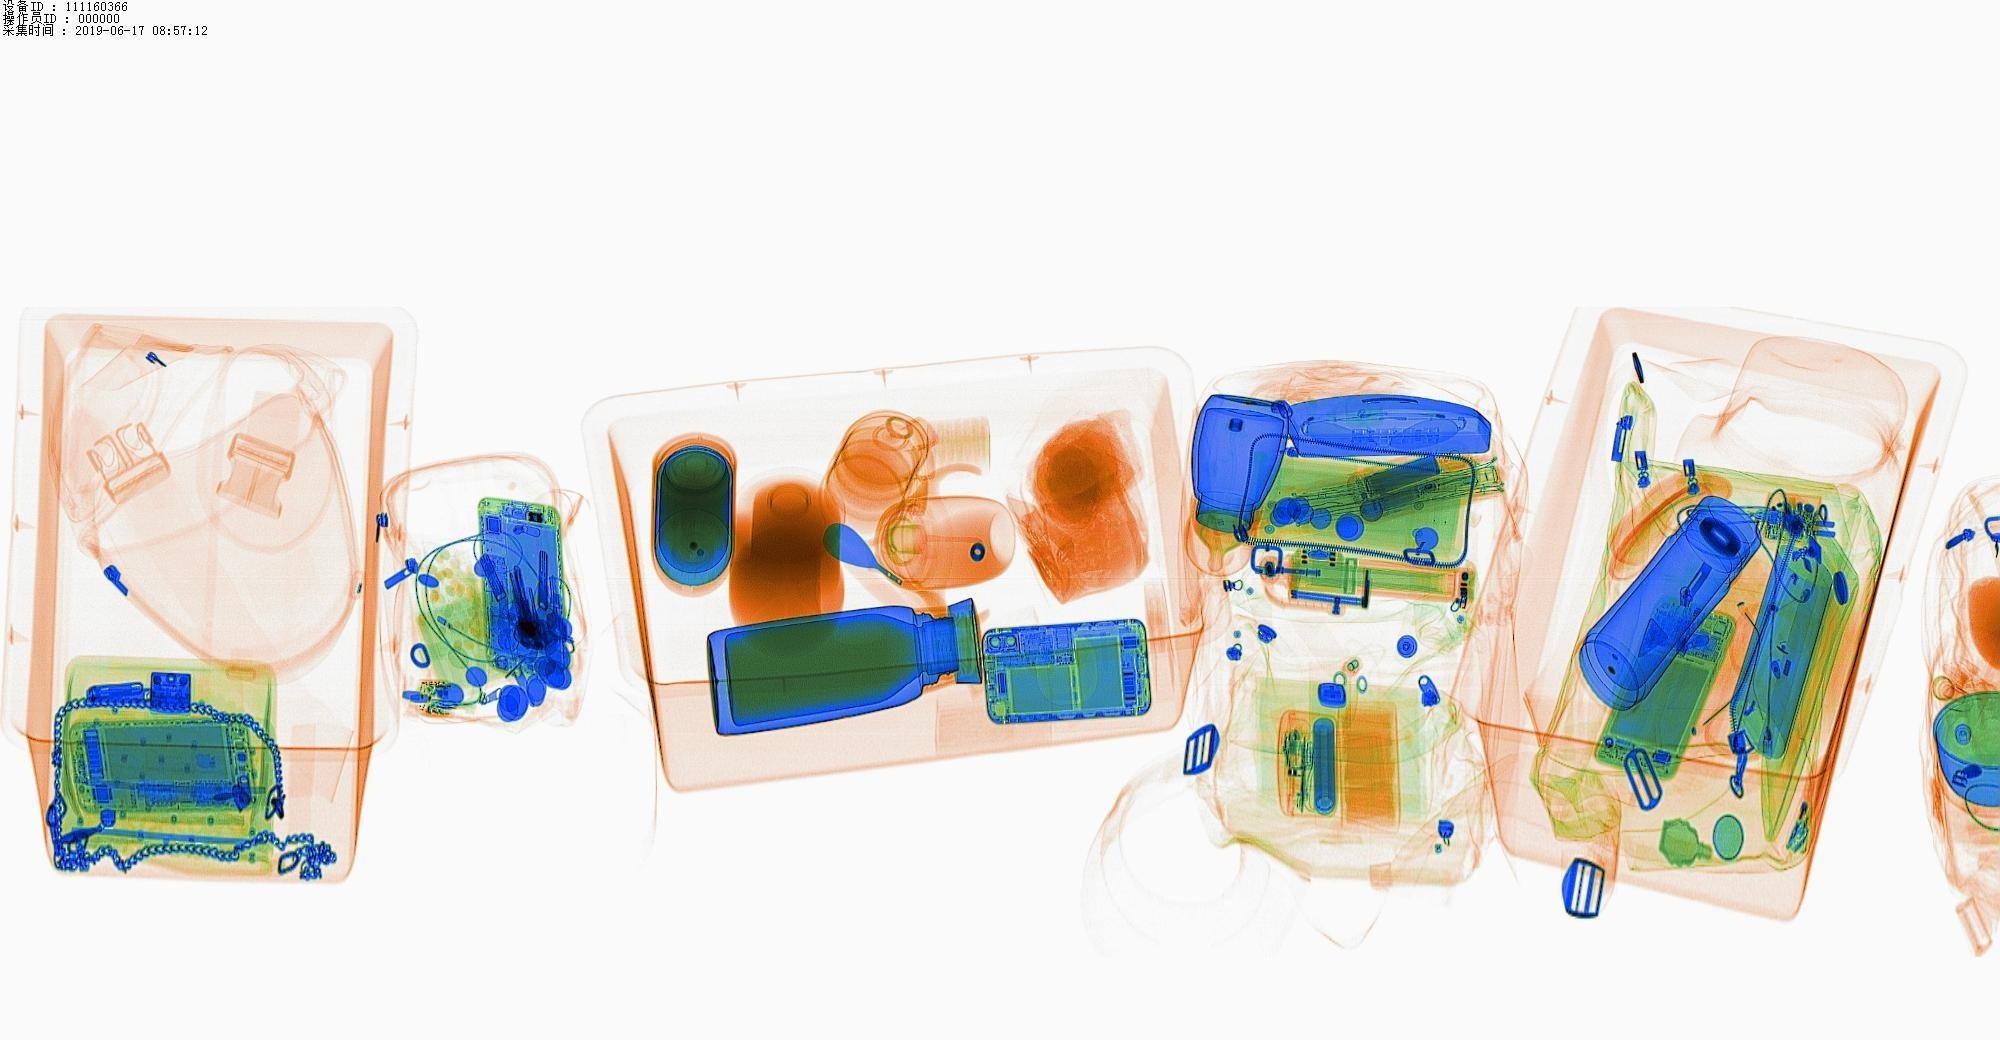NonmetallicFire: (1762, 746, 1847, 879)
